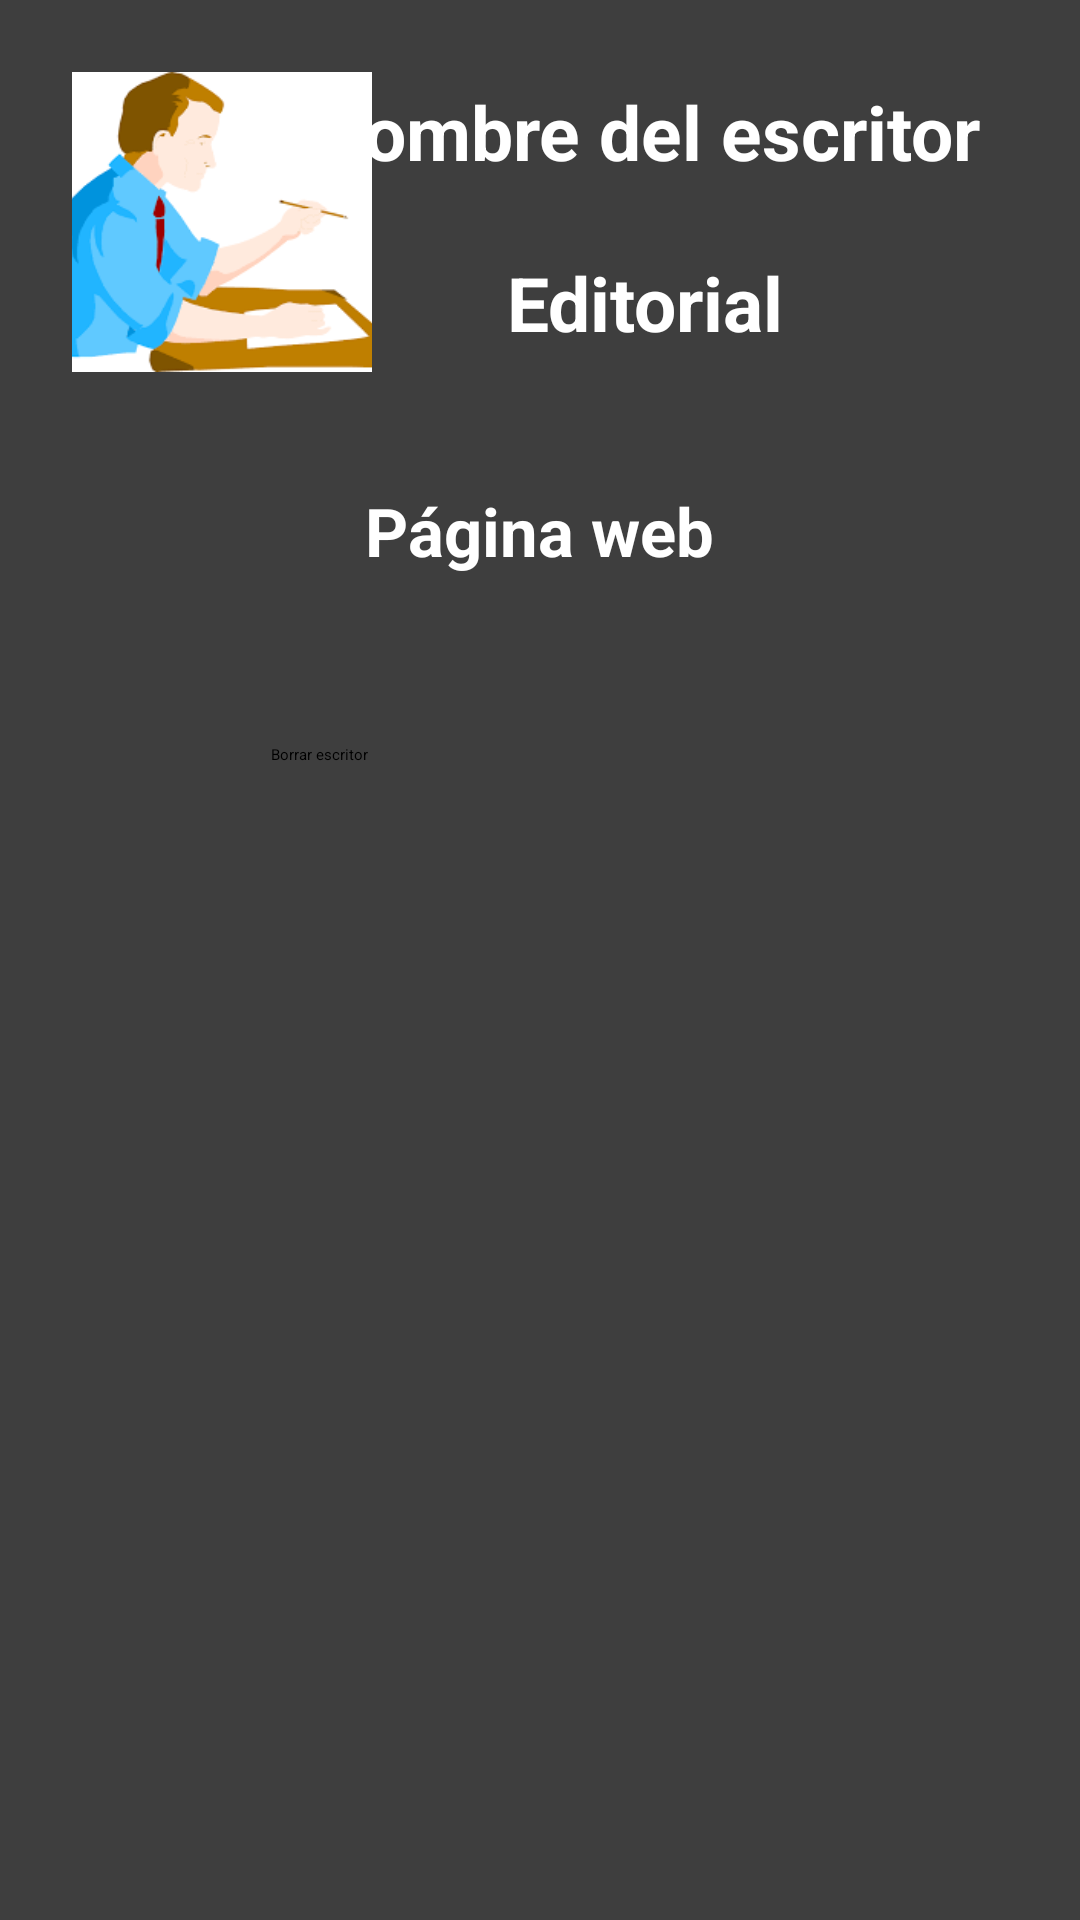

Icons on this 1080w x 1920h Android screen, each with the point to tap as (x,y):
writer photo: (222,222)
